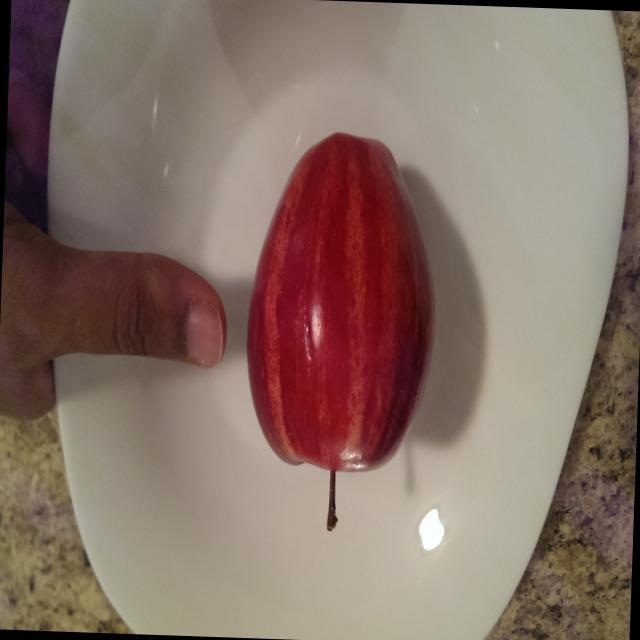Apple: (232, 124, 451, 546)
Finger: (105, 240, 235, 379)
